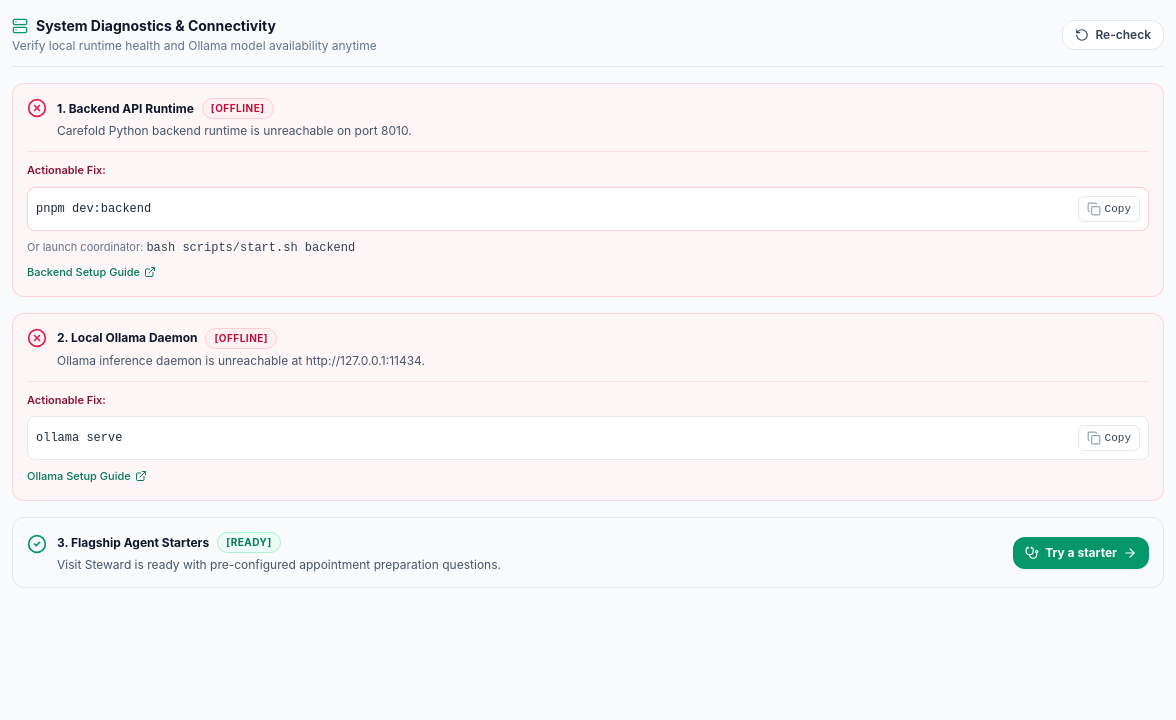
Test case: First-Run Setup Checklist & Diagnostics (#99) › Probe 3: Flagship Starters & Re-check Controls › copies terminal fix commands to clipboard and provides user feedback
Click the button with test id "copy-backend-command" at (1109, 208), box [1078, 196, 1140, 222]
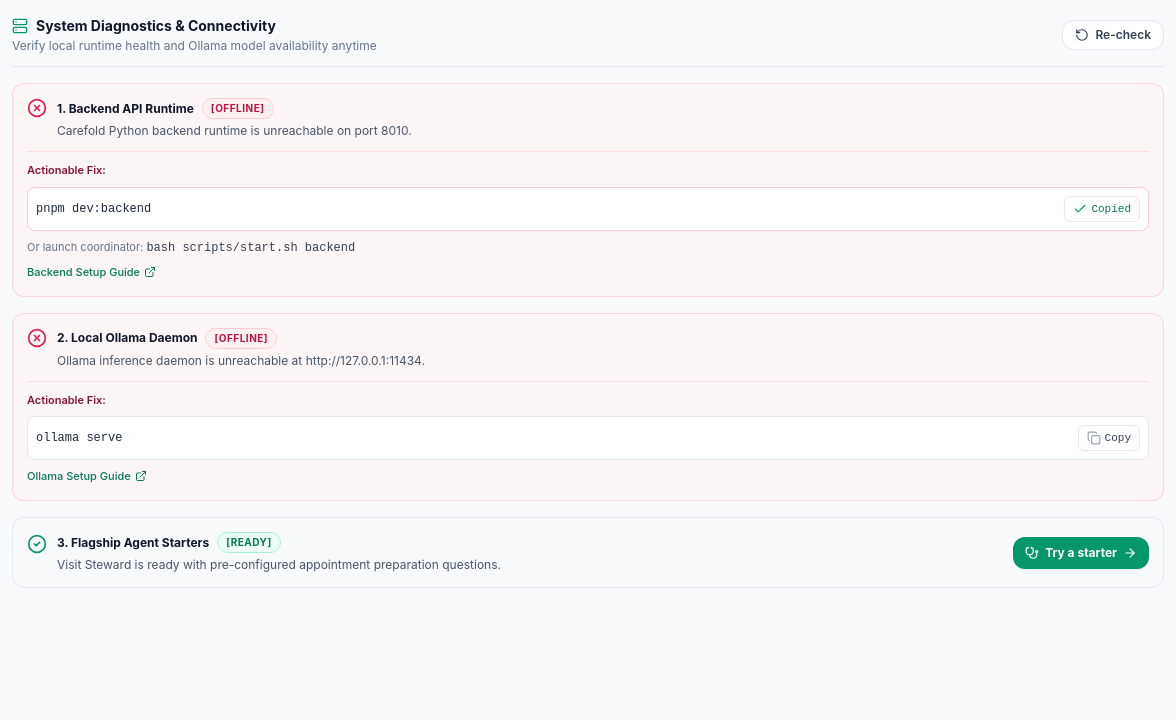
Check: the text "Copied" is shown, box [1091, 200, 1131, 216]
